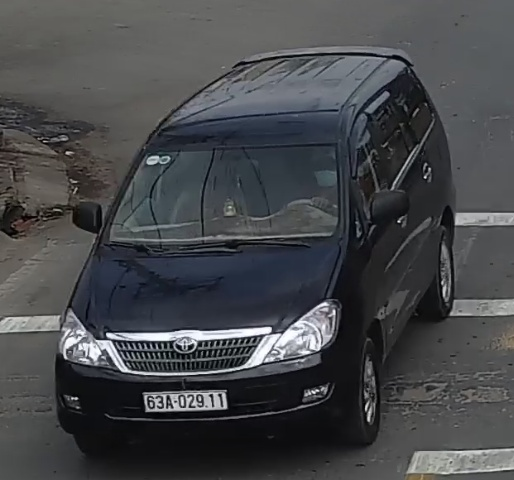vehicle plate: (140, 385, 230, 412)
